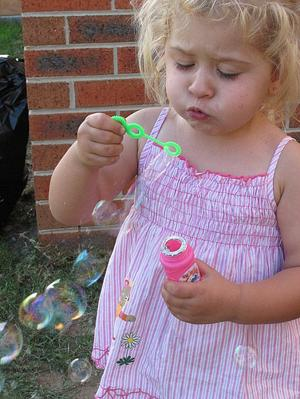person: (48, 5, 300, 399)
